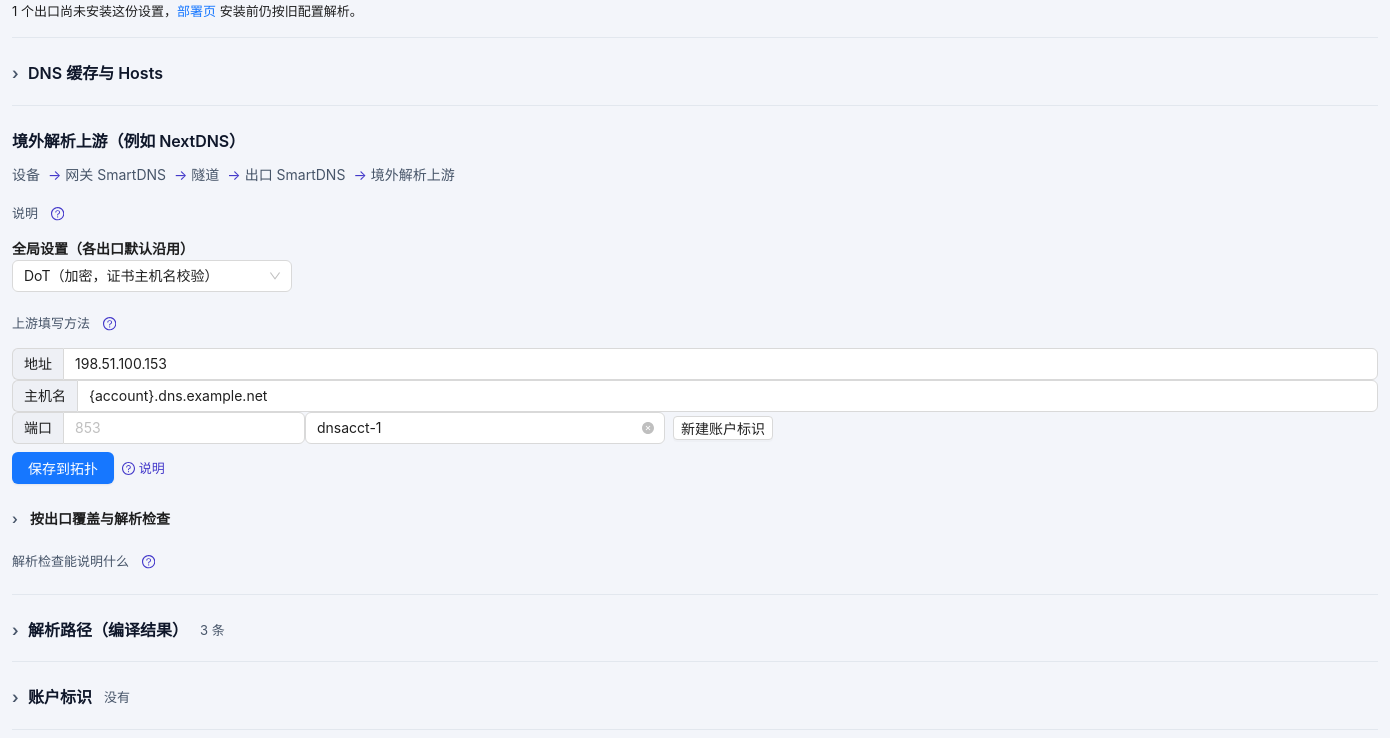
resolution view › sends an account value once and never shows it
The width and height of the screenshot is (1390, 738).
Click the button "账户标识" at (52, 698), box [12,686,92,709]
(page scrolled)
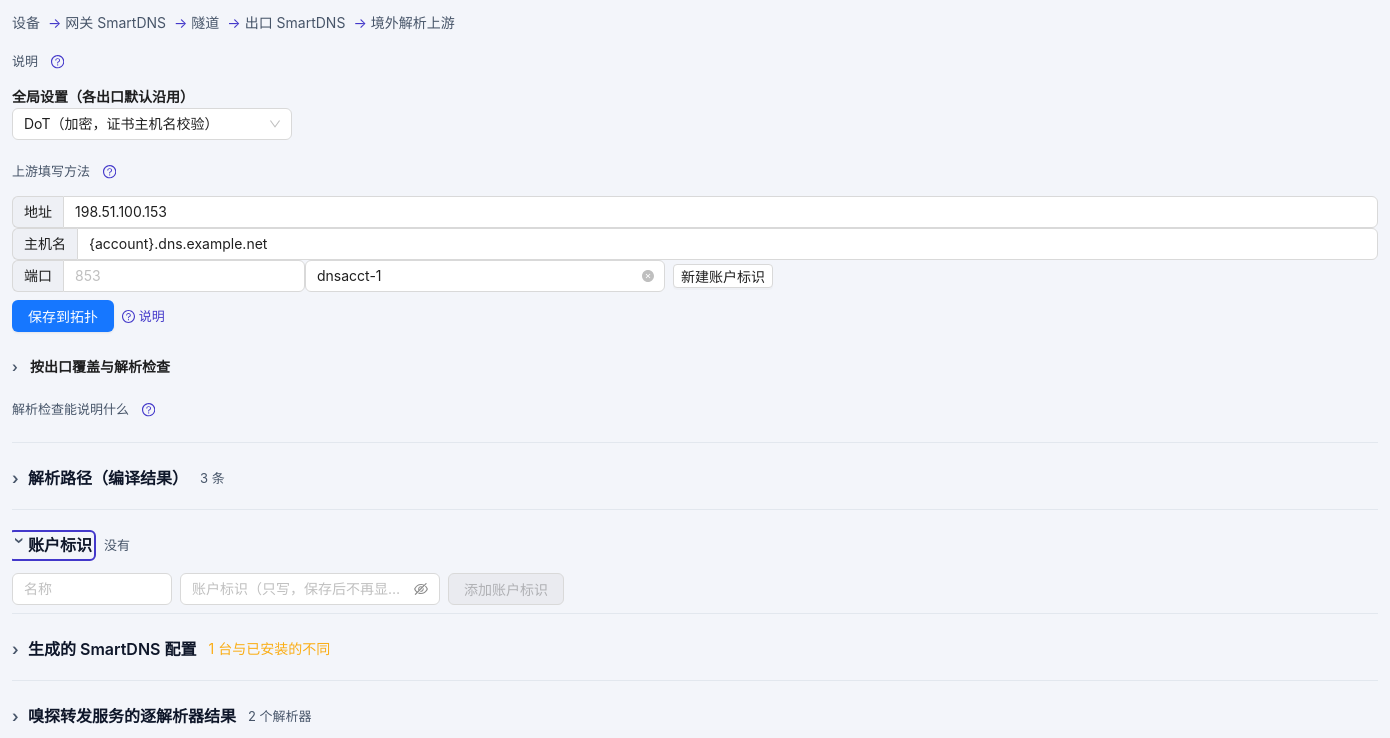
Type "示例" into the field named "账户标识名称" at (92, 589), box [12,573,172,605]
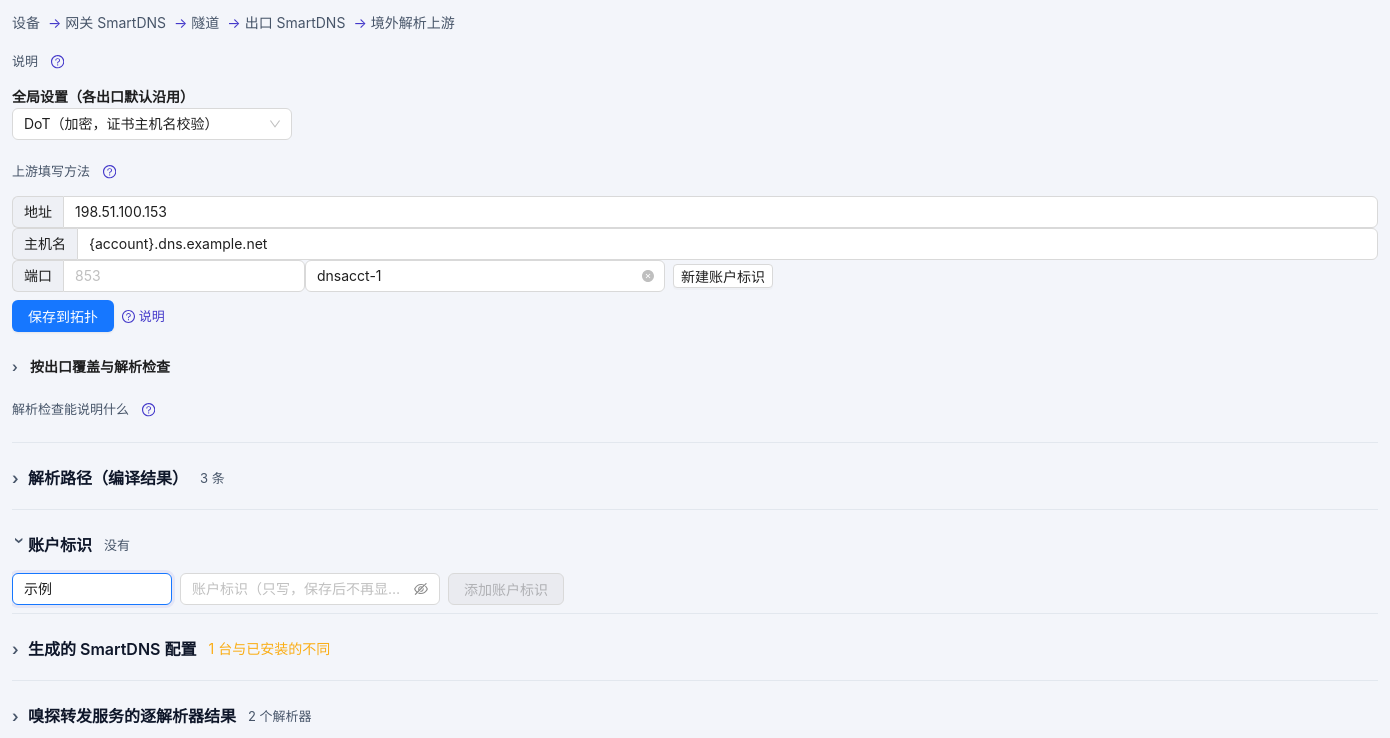
Type "acct9z8y7x" into the password field named "账户标识的值" at (301, 589), box [192,578,410,600]
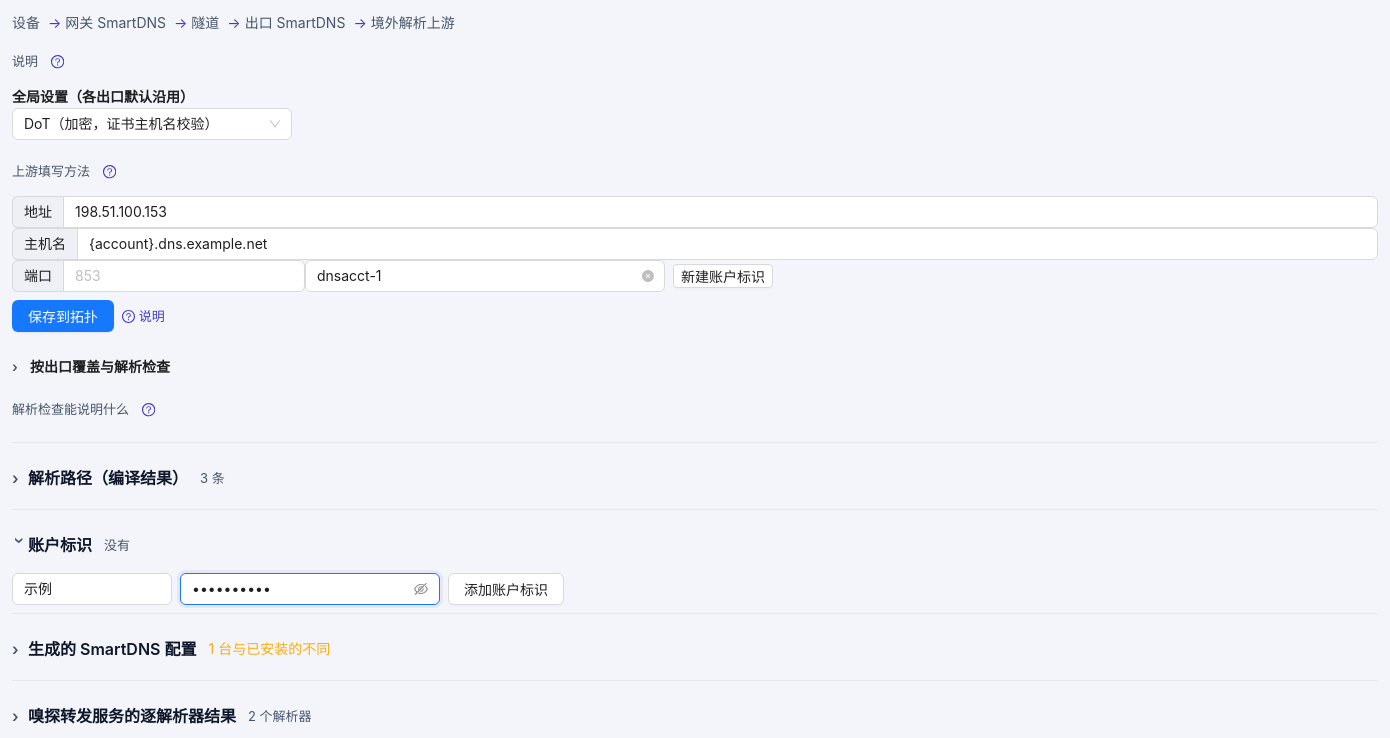
Click the button "添加账户标识" at (506, 589), box [448,573,564,605]
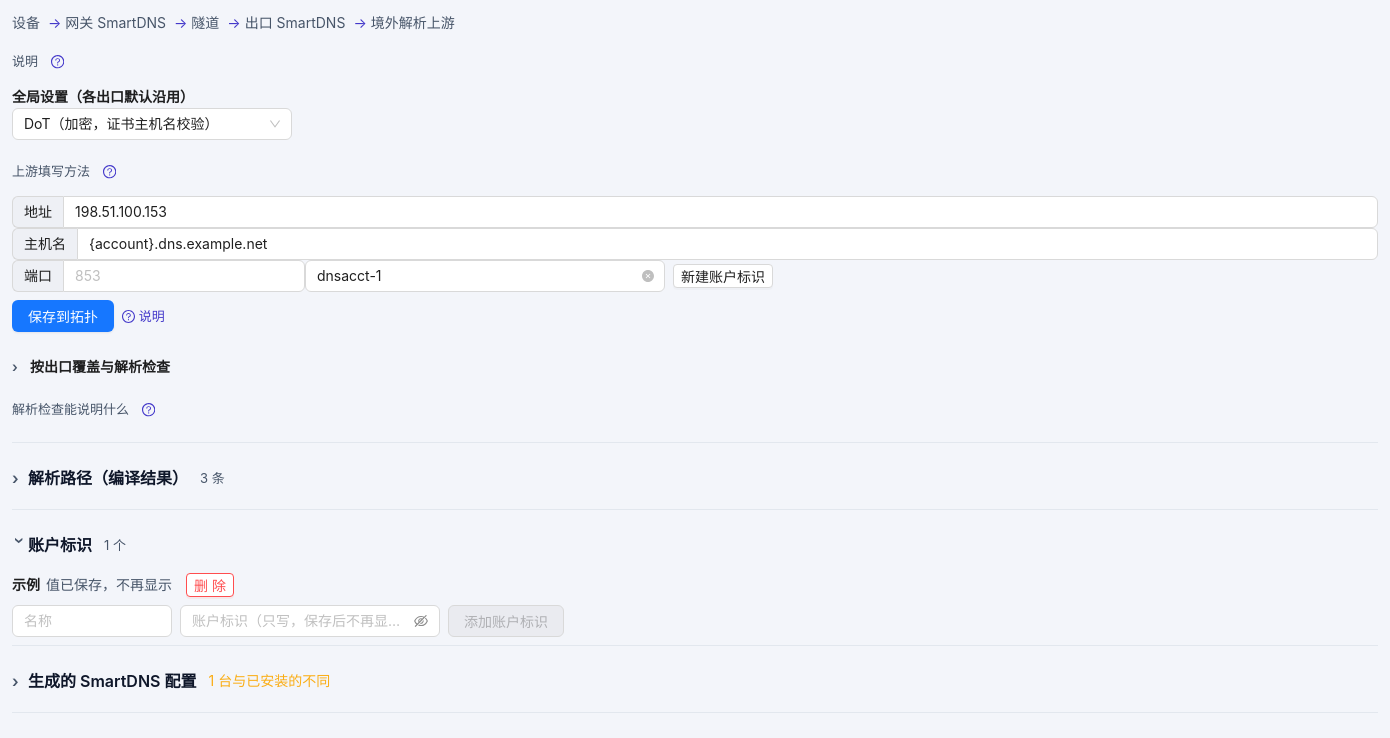
Result: the text "值已保存，不再显示" is shown at [46,576,172,593]
Result: the password field named "账户标识的值" is empty at [192,610,410,632]
